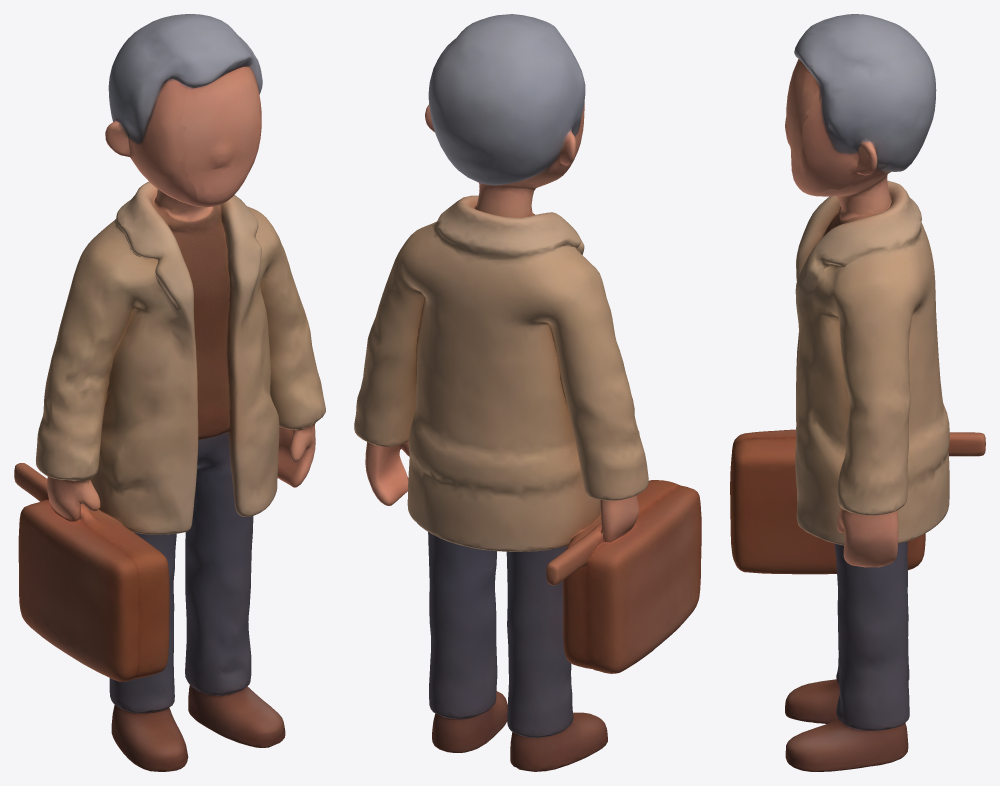
The model's file is man_tired.glb.
The picture shows the model from 3 angles, left to right: view 1: azimuth 30°, elevation 25°; view 2: azimuth 150°, elevation 25°; view 3: azimuth 270°, elevation 25°; orthographic projection.
Parts seen in each view (by area): view 1: Mesh; view 2: Mesh; view 3: Mesh.
Part boxes in pixels (x1,y1,x2,y2): Mesh: (14,14,325,771); Mesh: (354,14,701,771); Mesh: (730,14,985,771).
Bounding box in the file's own units: 0.7876 × 1.9 × 0.616.
Materials: 1 (1 with a texture image).
